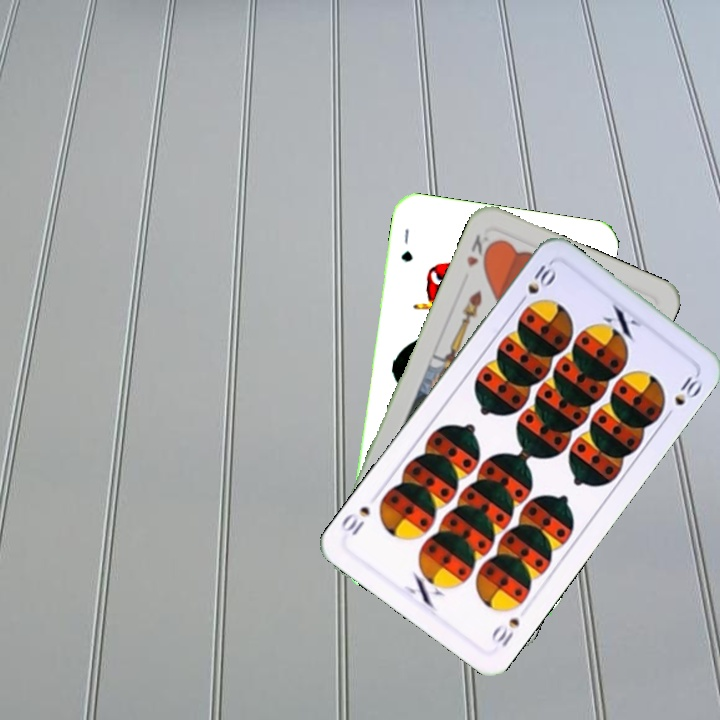GU: (396, 224, 415, 265)
HK: (462, 230, 496, 271)
S10: (513, 259, 559, 309), (487, 612, 522, 650)
